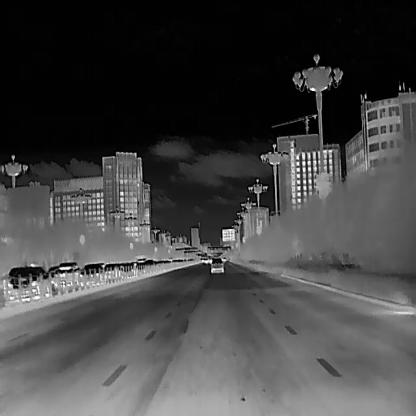car: (7, 265, 49, 296), (53, 262, 80, 286), (80, 262, 104, 284), (104, 262, 122, 278), (210, 258, 224, 272)
